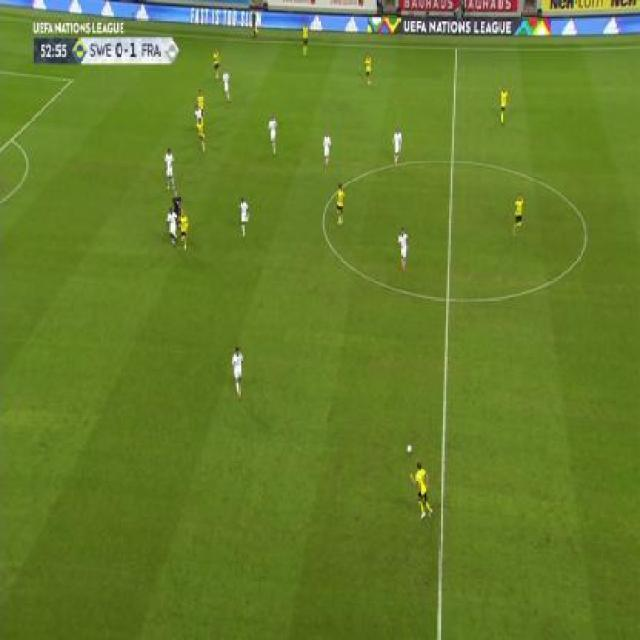ball: (405, 442, 413, 456)
player: (410, 460, 436, 522), (228, 345, 244, 401), (162, 146, 178, 192), (512, 191, 526, 237), (396, 226, 410, 272), (237, 195, 251, 240), (334, 182, 347, 227), (166, 208, 180, 248), (497, 83, 510, 126), (177, 208, 190, 251), (266, 113, 279, 155), (391, 127, 404, 167), (322, 129, 333, 168), (196, 116, 207, 153), (170, 187, 183, 218), (221, 68, 232, 101), (363, 51, 372, 87), (212, 45, 221, 81), (302, 21, 310, 57), (250, 8, 259, 39), (197, 89, 206, 108), (194, 104, 203, 123)
